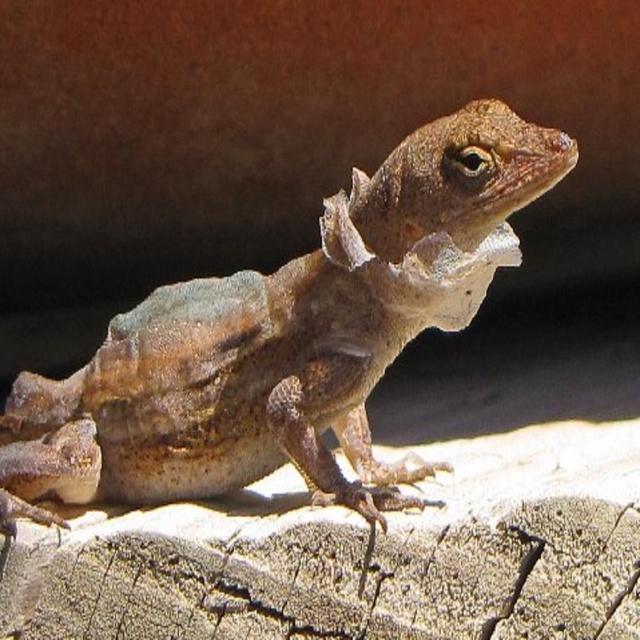Lizard: (0, 92, 579, 534)
